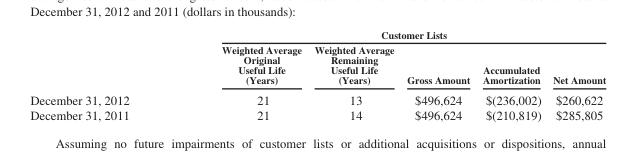table: (29, 28, 605, 121)
table column: (29, 28, 174, 121), (174, 28, 307, 121), (307, 28, 399, 121), (399, 28, 475, 121), (475, 28, 546, 121), (546, 28, 605, 121)
table column header: (29, 28, 605, 88)
table row: (29, 41, 605, 88), (29, 88, 605, 106), (29, 106, 605, 121), (29, 28, 605, 41)
table spanning cell: (174, 28, 605, 41)
